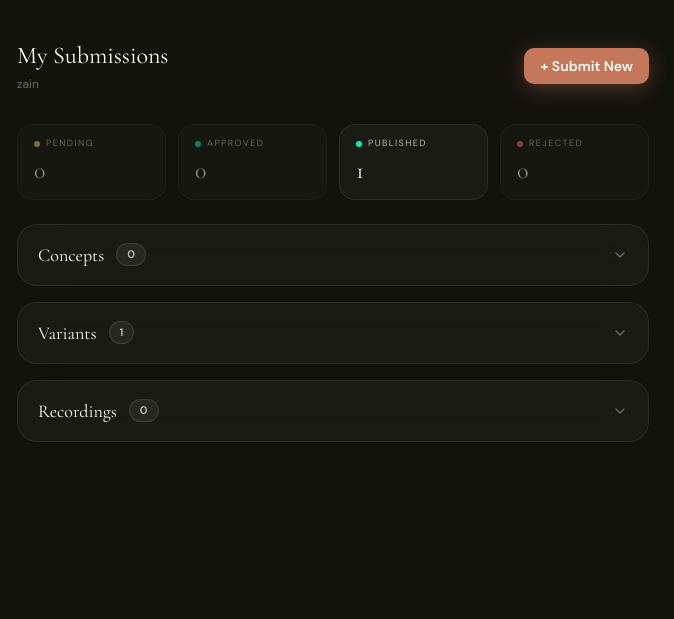
Test case: My Submissions — needs completion › refuses to send when nothing changed
Step 1. Click the button "Variants 1" → [67, 332], box [18, 302, 648, 362]
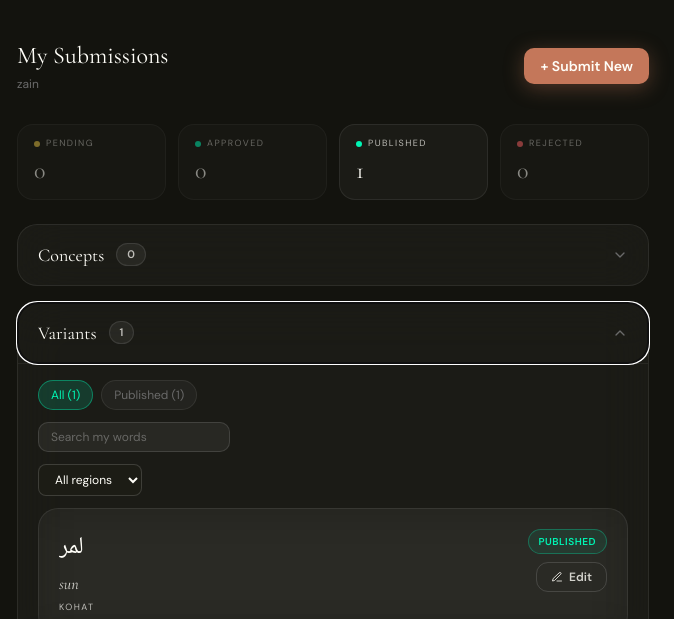
Step 2. Click the button "Edit" → [572, 576], box [536, 562, 607, 592]
(page scrolled)
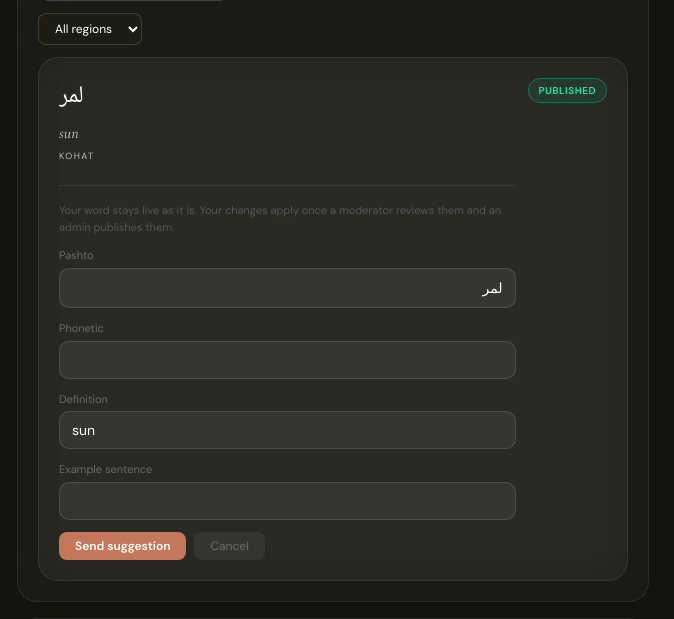
Step 3. Click the button "Send suggestion" → [123, 546], box [59, 532, 186, 560]
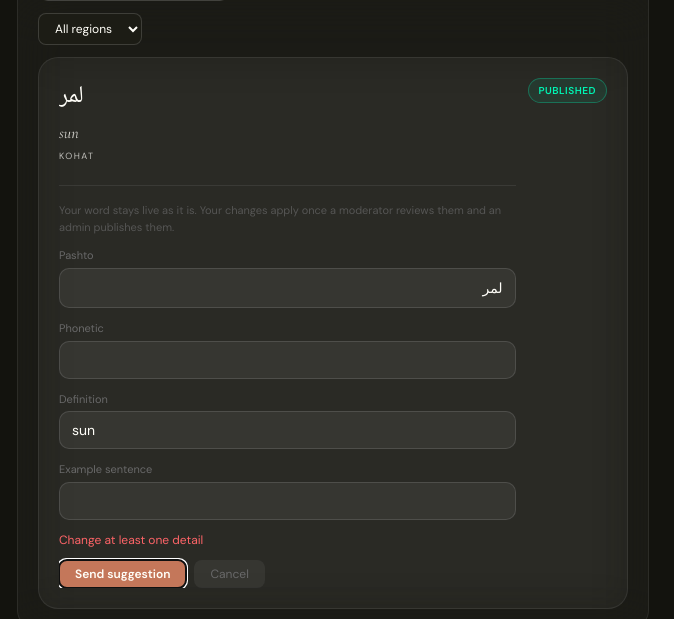
Expected: the message reads "Change at least one detail", [59, 532, 203, 548]
